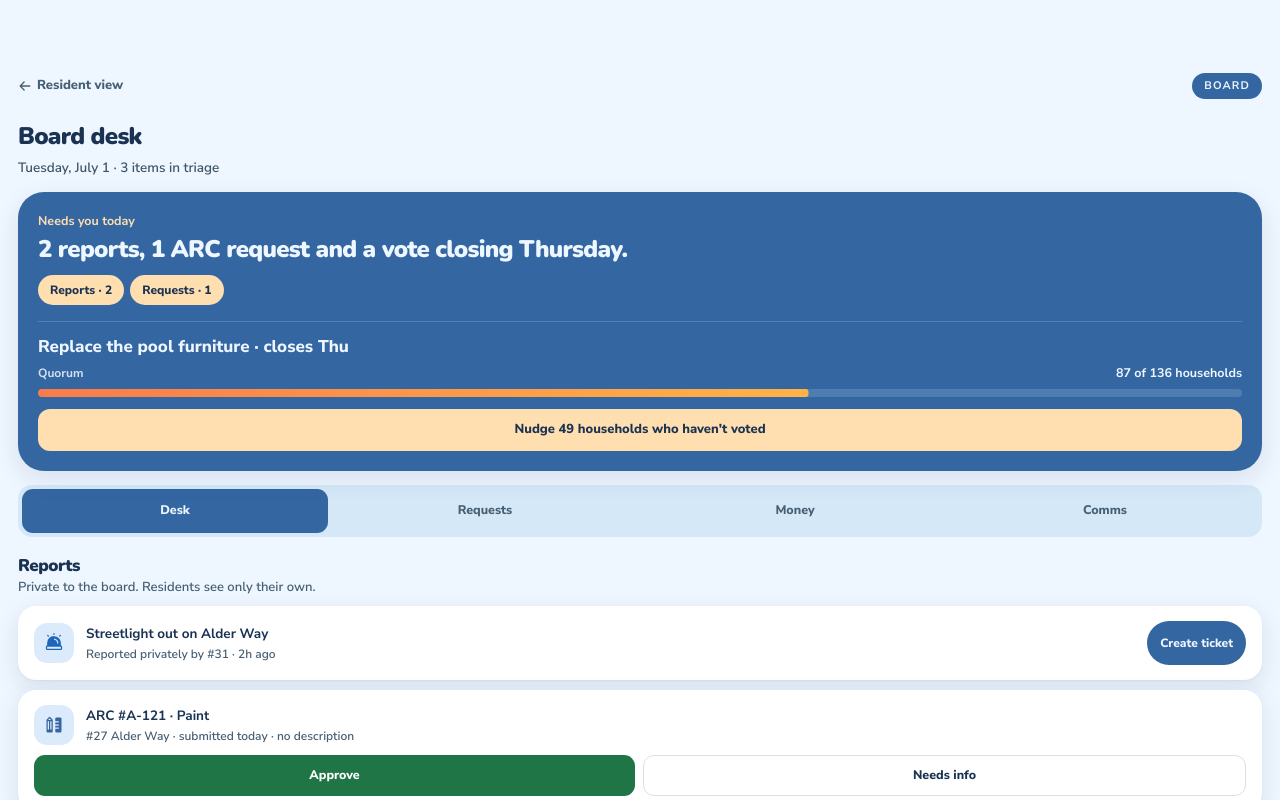
board can approve the submitted ARC and resident status updates
Click the button "Approve".
click(334, 776)  # box [34, 755, 635, 796]
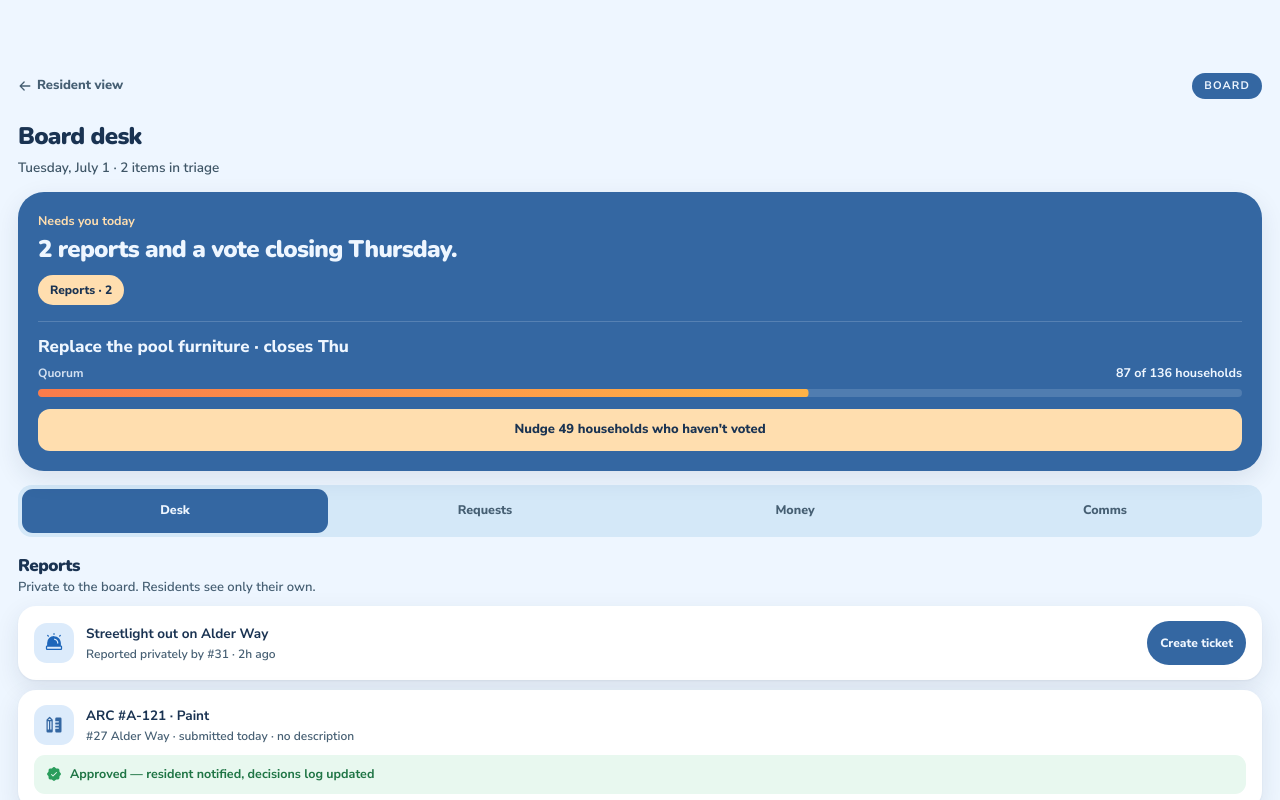
Result: the text "Approved — resident notified, decisions log updated" is shown at [70, 765, 374, 784]
